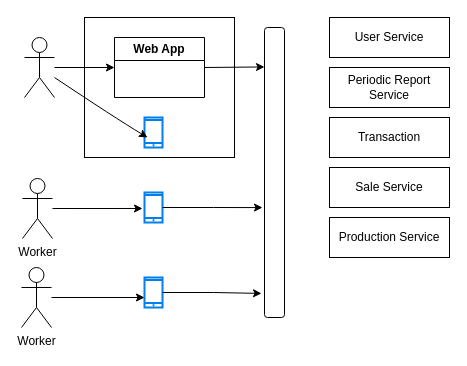
The diagram is 467 pixels wide and 366 high, and some of its shapes have lost their labels. The shapes that lost their labels are listed below. From the top down, each one's box as (x1, y1, x2, y2) in pixels, then its label:
(24, 36, 54, 98): Admin
(264, 26, 284, 318): A P I G a t e w a y
